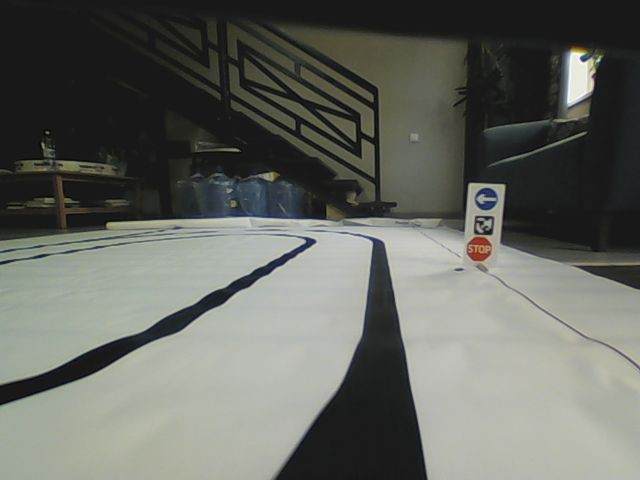Stop: (463, 235, 491, 263)
